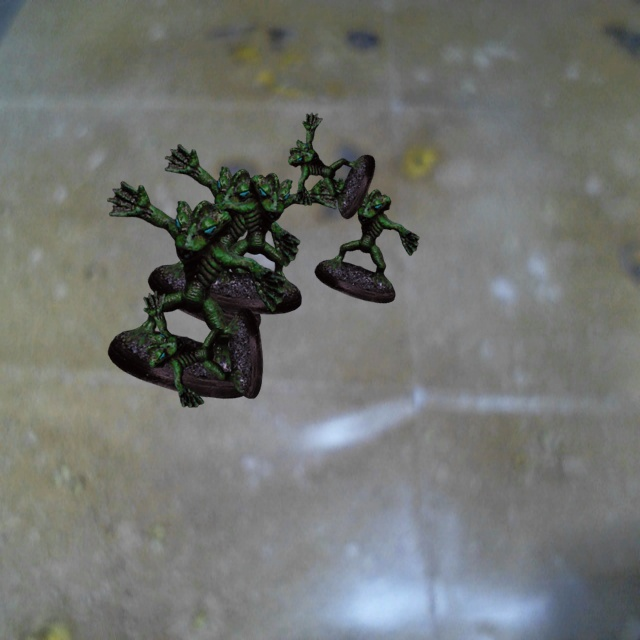pieza_juego: (107, 181, 285, 398), (148, 144, 299, 331), (192, 173, 341, 314), (143, 291, 262, 407), (314, 175, 419, 303), (288, 113, 374, 218)
